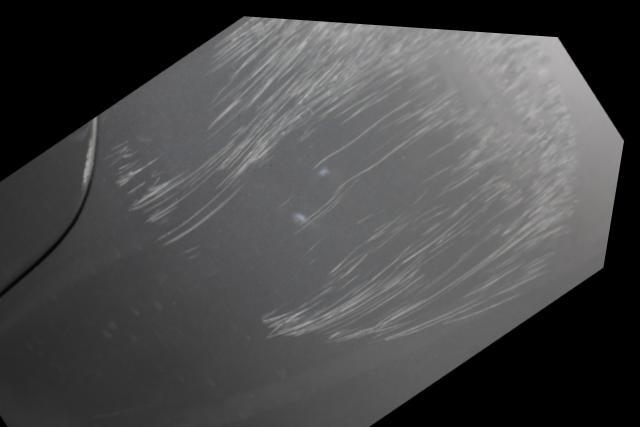scratch: (110, 13, 588, 342)
